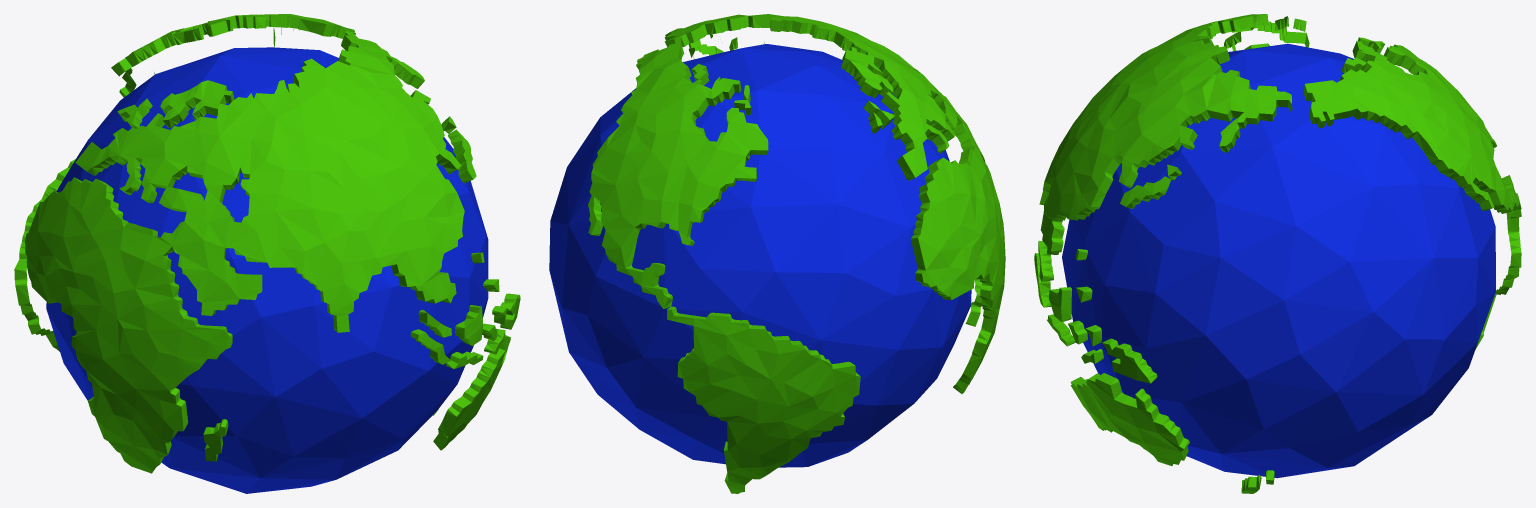
The model's file is earth.glb.
3 views of the same model, side by side, from view 1: azimuth 30°, elevation 25°; view 2: azimuth 150°, elevation 25°; view 3: azimuth 270°, elevation 25° (orthographic). The views are drawn at different scales.
Visible parts, largest first — view 1: Land_, Oceans; view 2: Oceans, Land_; view 3: Oceans, Land_.
Boxes of the visible parts, bbox=[...] form: Land_: bbox=[14, 14, 520, 473]; Oceans: bbox=[46, 47, 488, 493]; Oceans: bbox=[549, 44, 971, 467]; Land_: bbox=[588, 14, 1005, 493]; Oceans: bbox=[1062, 43, 1495, 478]; Land_: bbox=[1034, 14, 1521, 493].
Size of the model in its own units: 1.97 by 1.95 by 2.07.
